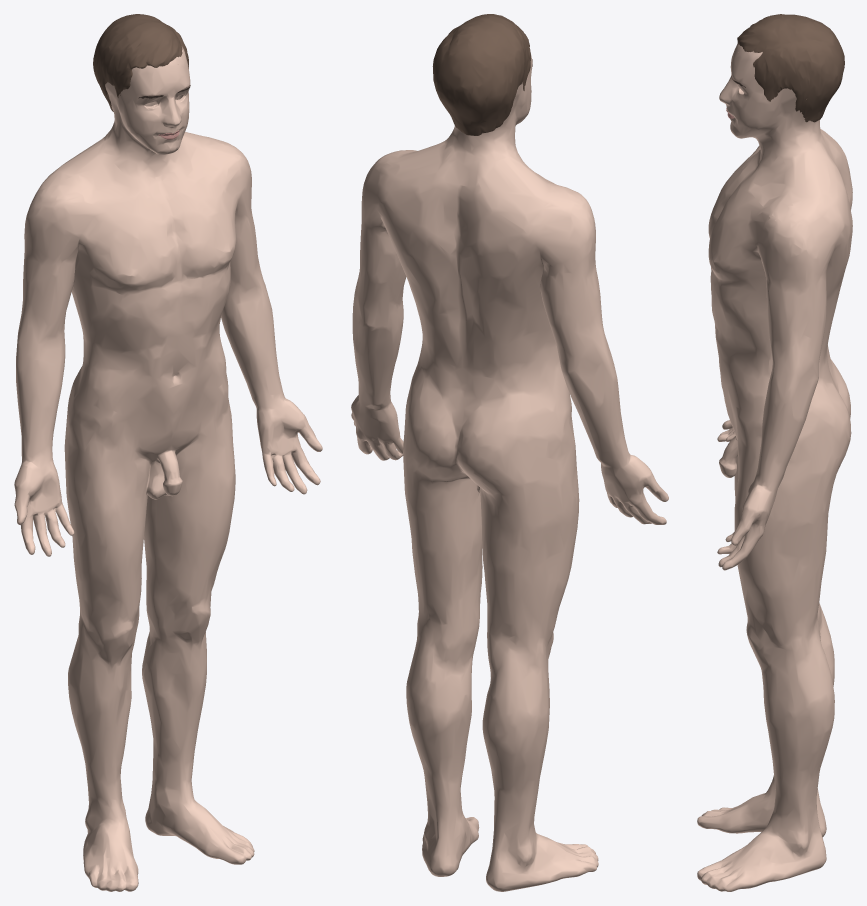
Rendered from bp3d-skin-male.glb.
3 views of the same model, side by side, from view 1: azimuth 30°, elevation 25°; view 2: azimuth 150°, elevation 25°; view 3: azimuth 270°, elevation 25° (orthographic). The views are drawn at different scales.
Parts seen in each view (by area): view 1: Skin, Hair; view 2: Skin, Hair; view 3: Skin, Hair.
Boxes of the visible parts, x1,y1,x2,y2 form: Skin: (14, 47, 322, 891); Hair: (93, 14, 188, 111); Skin: (351, 53, 668, 891); Hair: (432, 14, 530, 135); Skin: (697, 44, 852, 891); Hair: (737, 14, 844, 122).
Bounding box in the file's own units: 0.6668 × 1.73 × 0.292.
